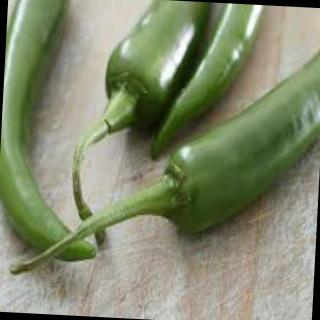Cabai Hijau: (74, 1, 264, 185), (159, 30, 320, 242), (1, 1, 73, 195)
